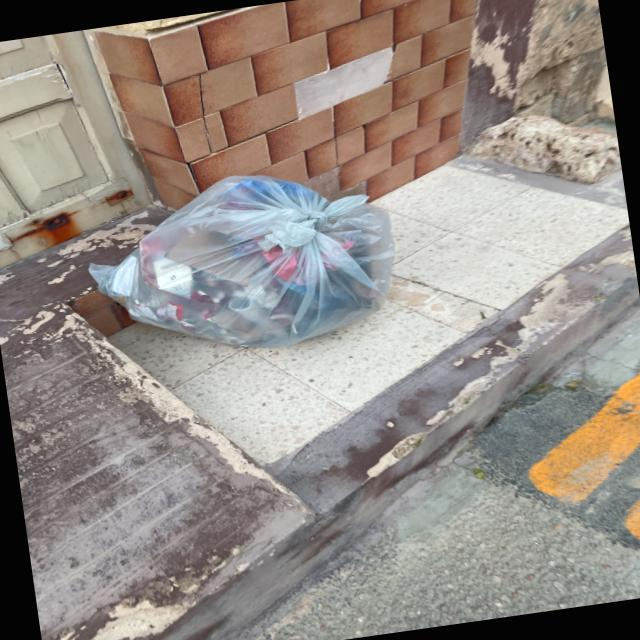grey_bag: (78, 152, 412, 376)
